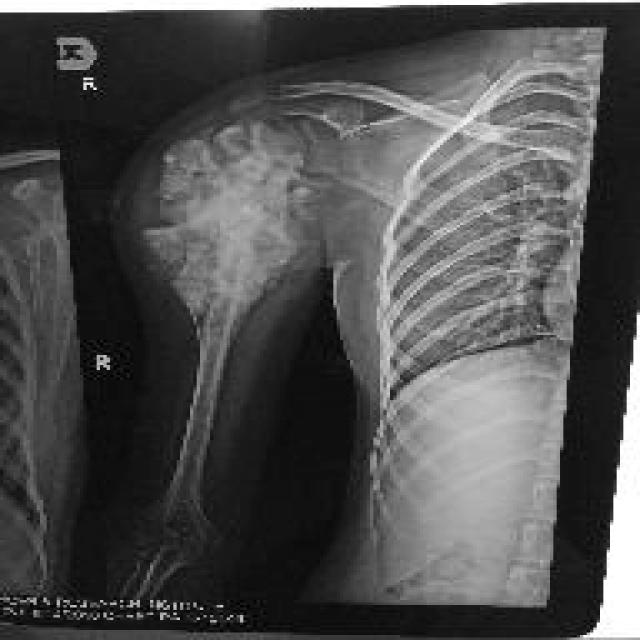bone-cancer: (142, 118, 325, 324)
